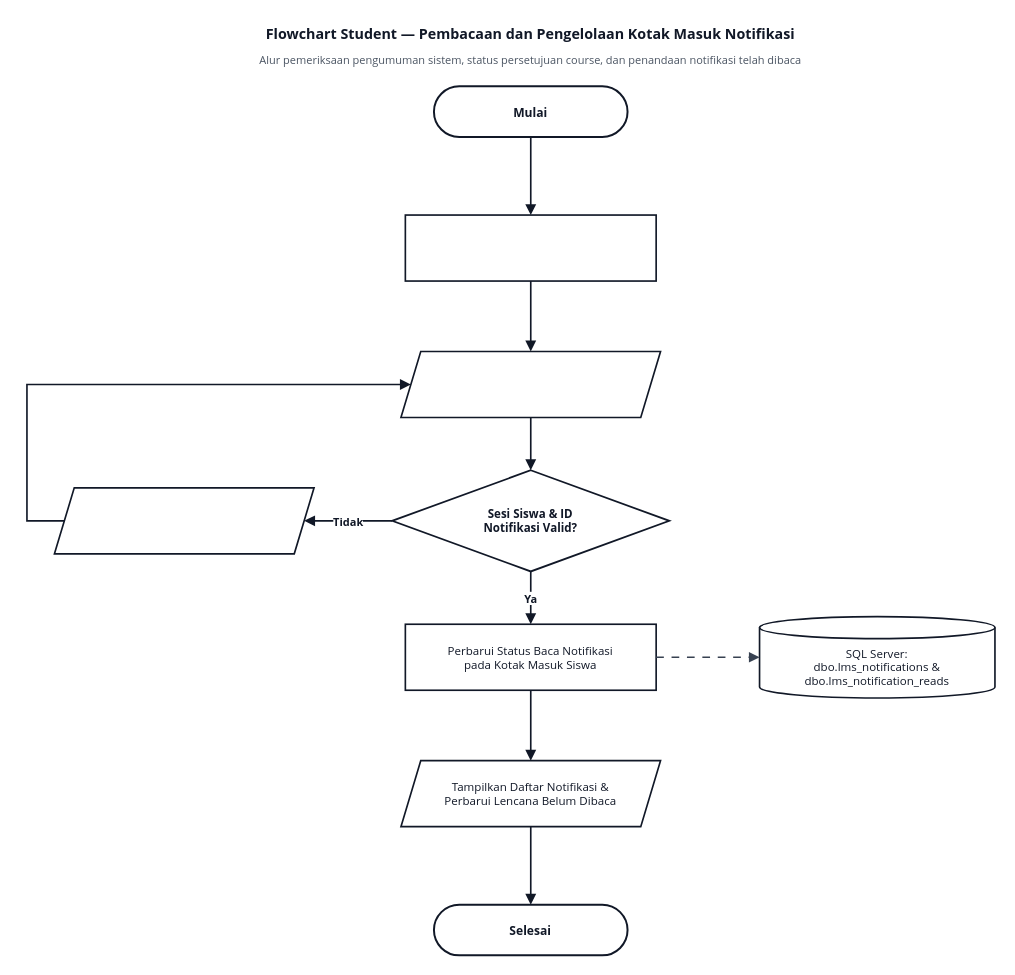
Image size: 1015x975. Some labels were removed from this diagram. Here are the shapes that lost their labels. From the top down, the centre of each, then its label:
At point 530,247: "Buka Menu Notifikasi atau Ikon Lonceng pada Bilah Atas".
At point 530,384: "Pilih Filter Notifikasi atau Klik Tandai Dibaca / Tandai Semua".
At point 183,520: "Tampilkan Peringatan Permintaan Tidak Valid".
